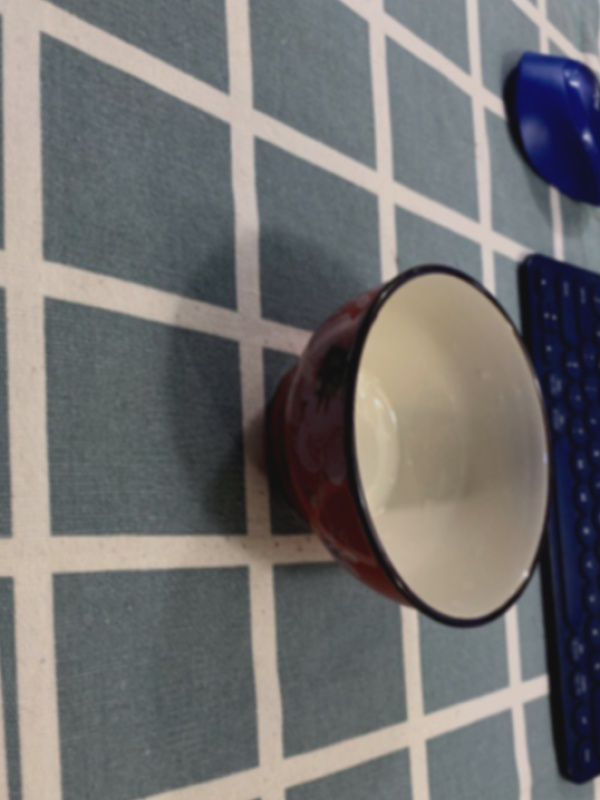bowl_small: (247, 249, 569, 637)
